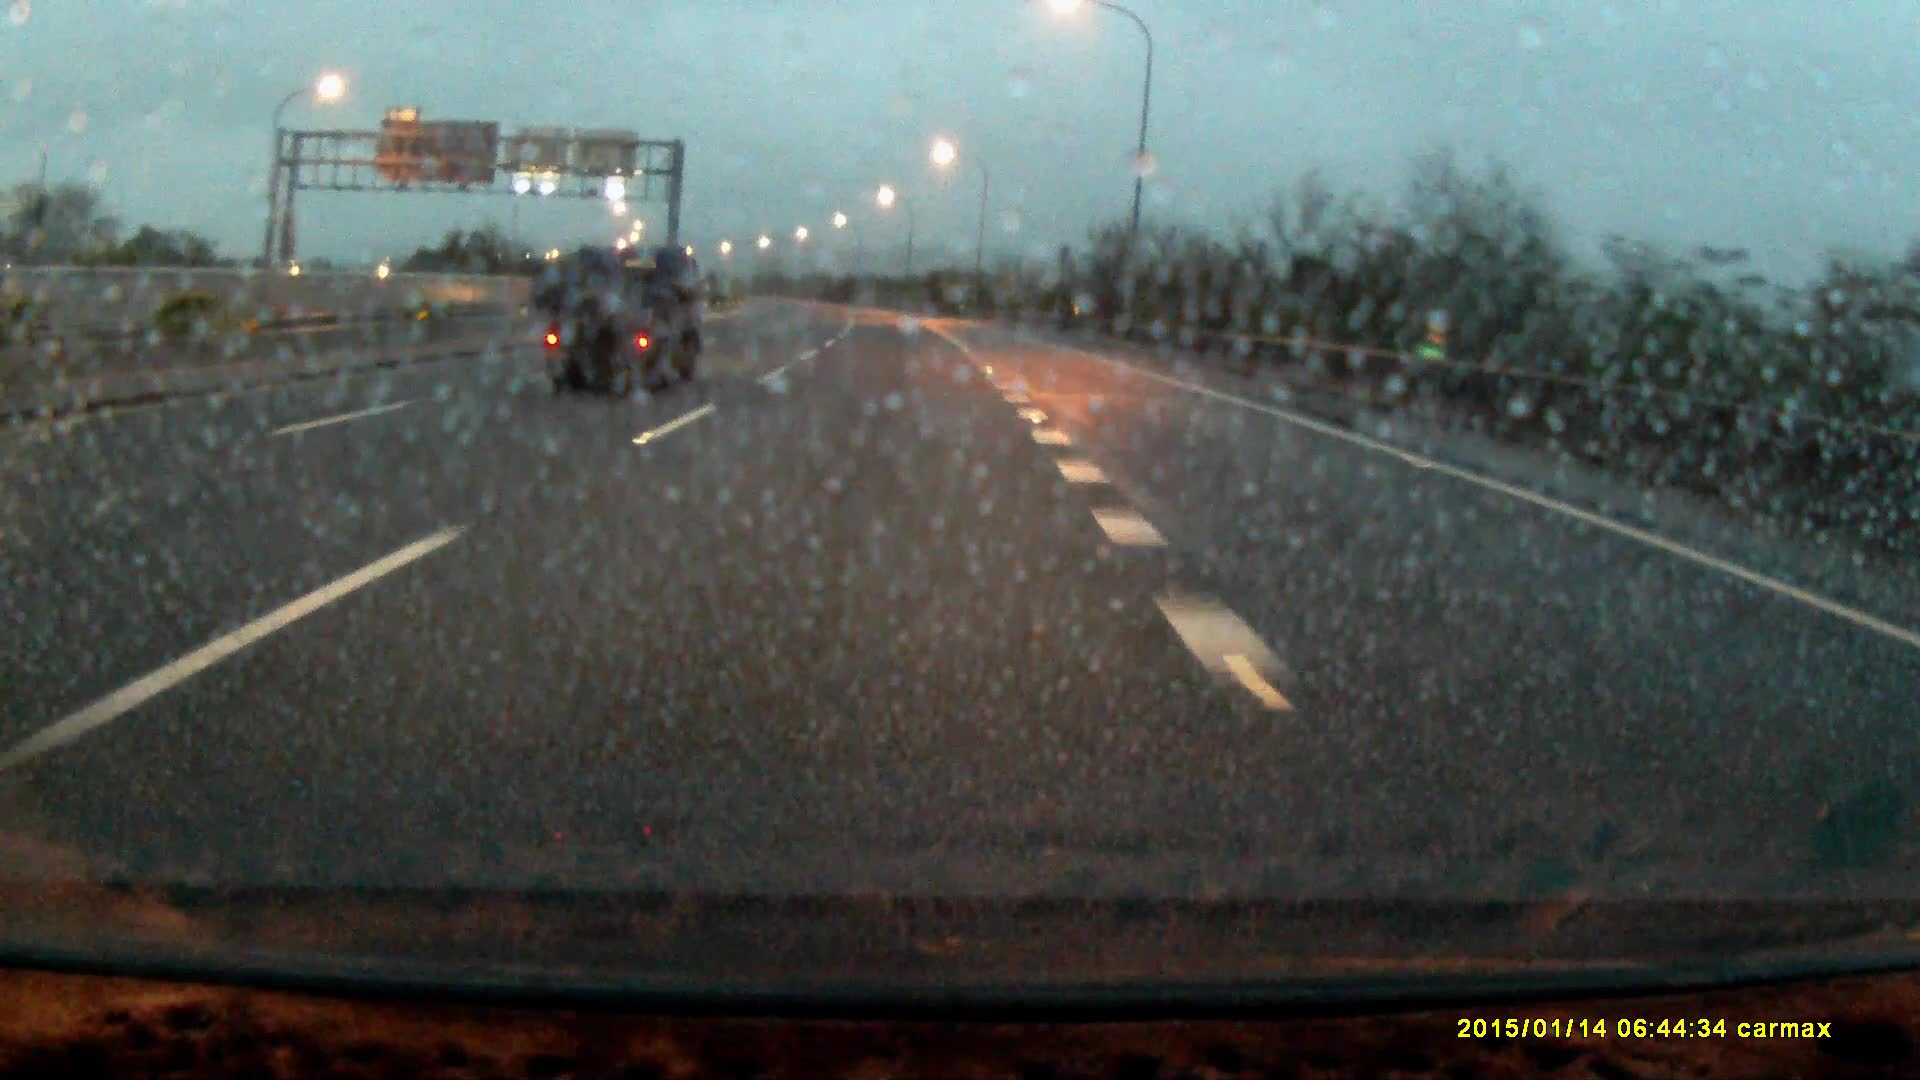vehicle: (539, 252, 709, 398)
